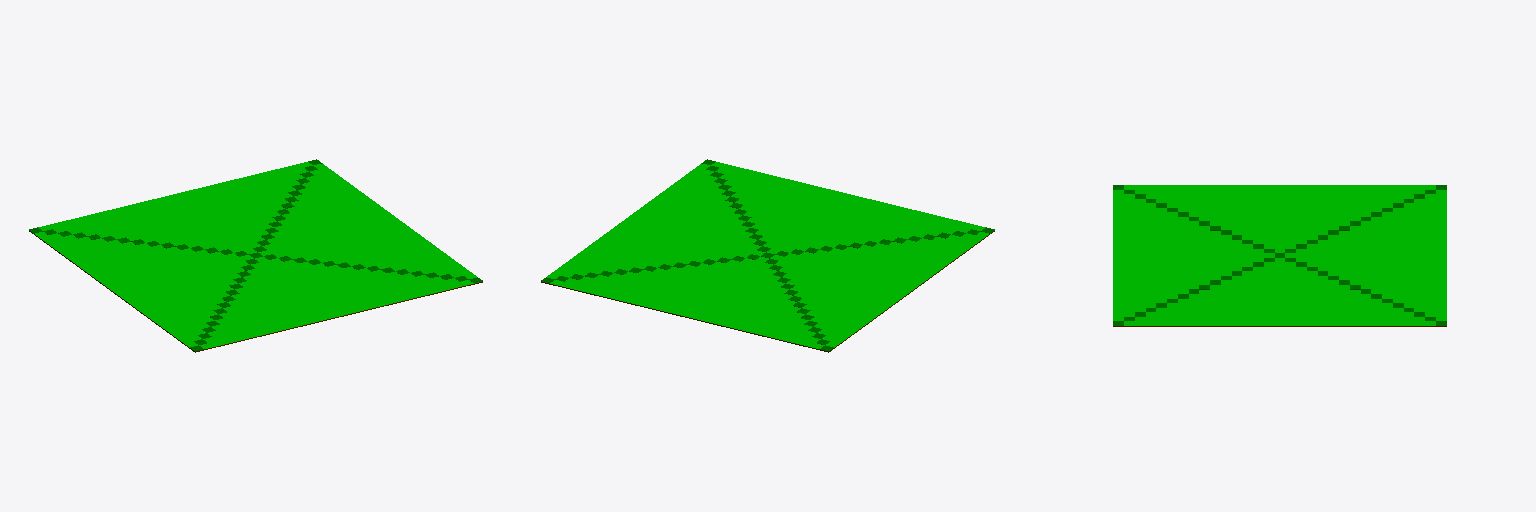
The picture shows the model from 3 angles: view 1: azimuth 30°, elevation 25°; view 2: azimuth 150°, elevation 25°; view 3: azimuth 270°, elevation 25°; orthographic projection.
Size of the model in its own units: 62 by 0.2396 by 62.